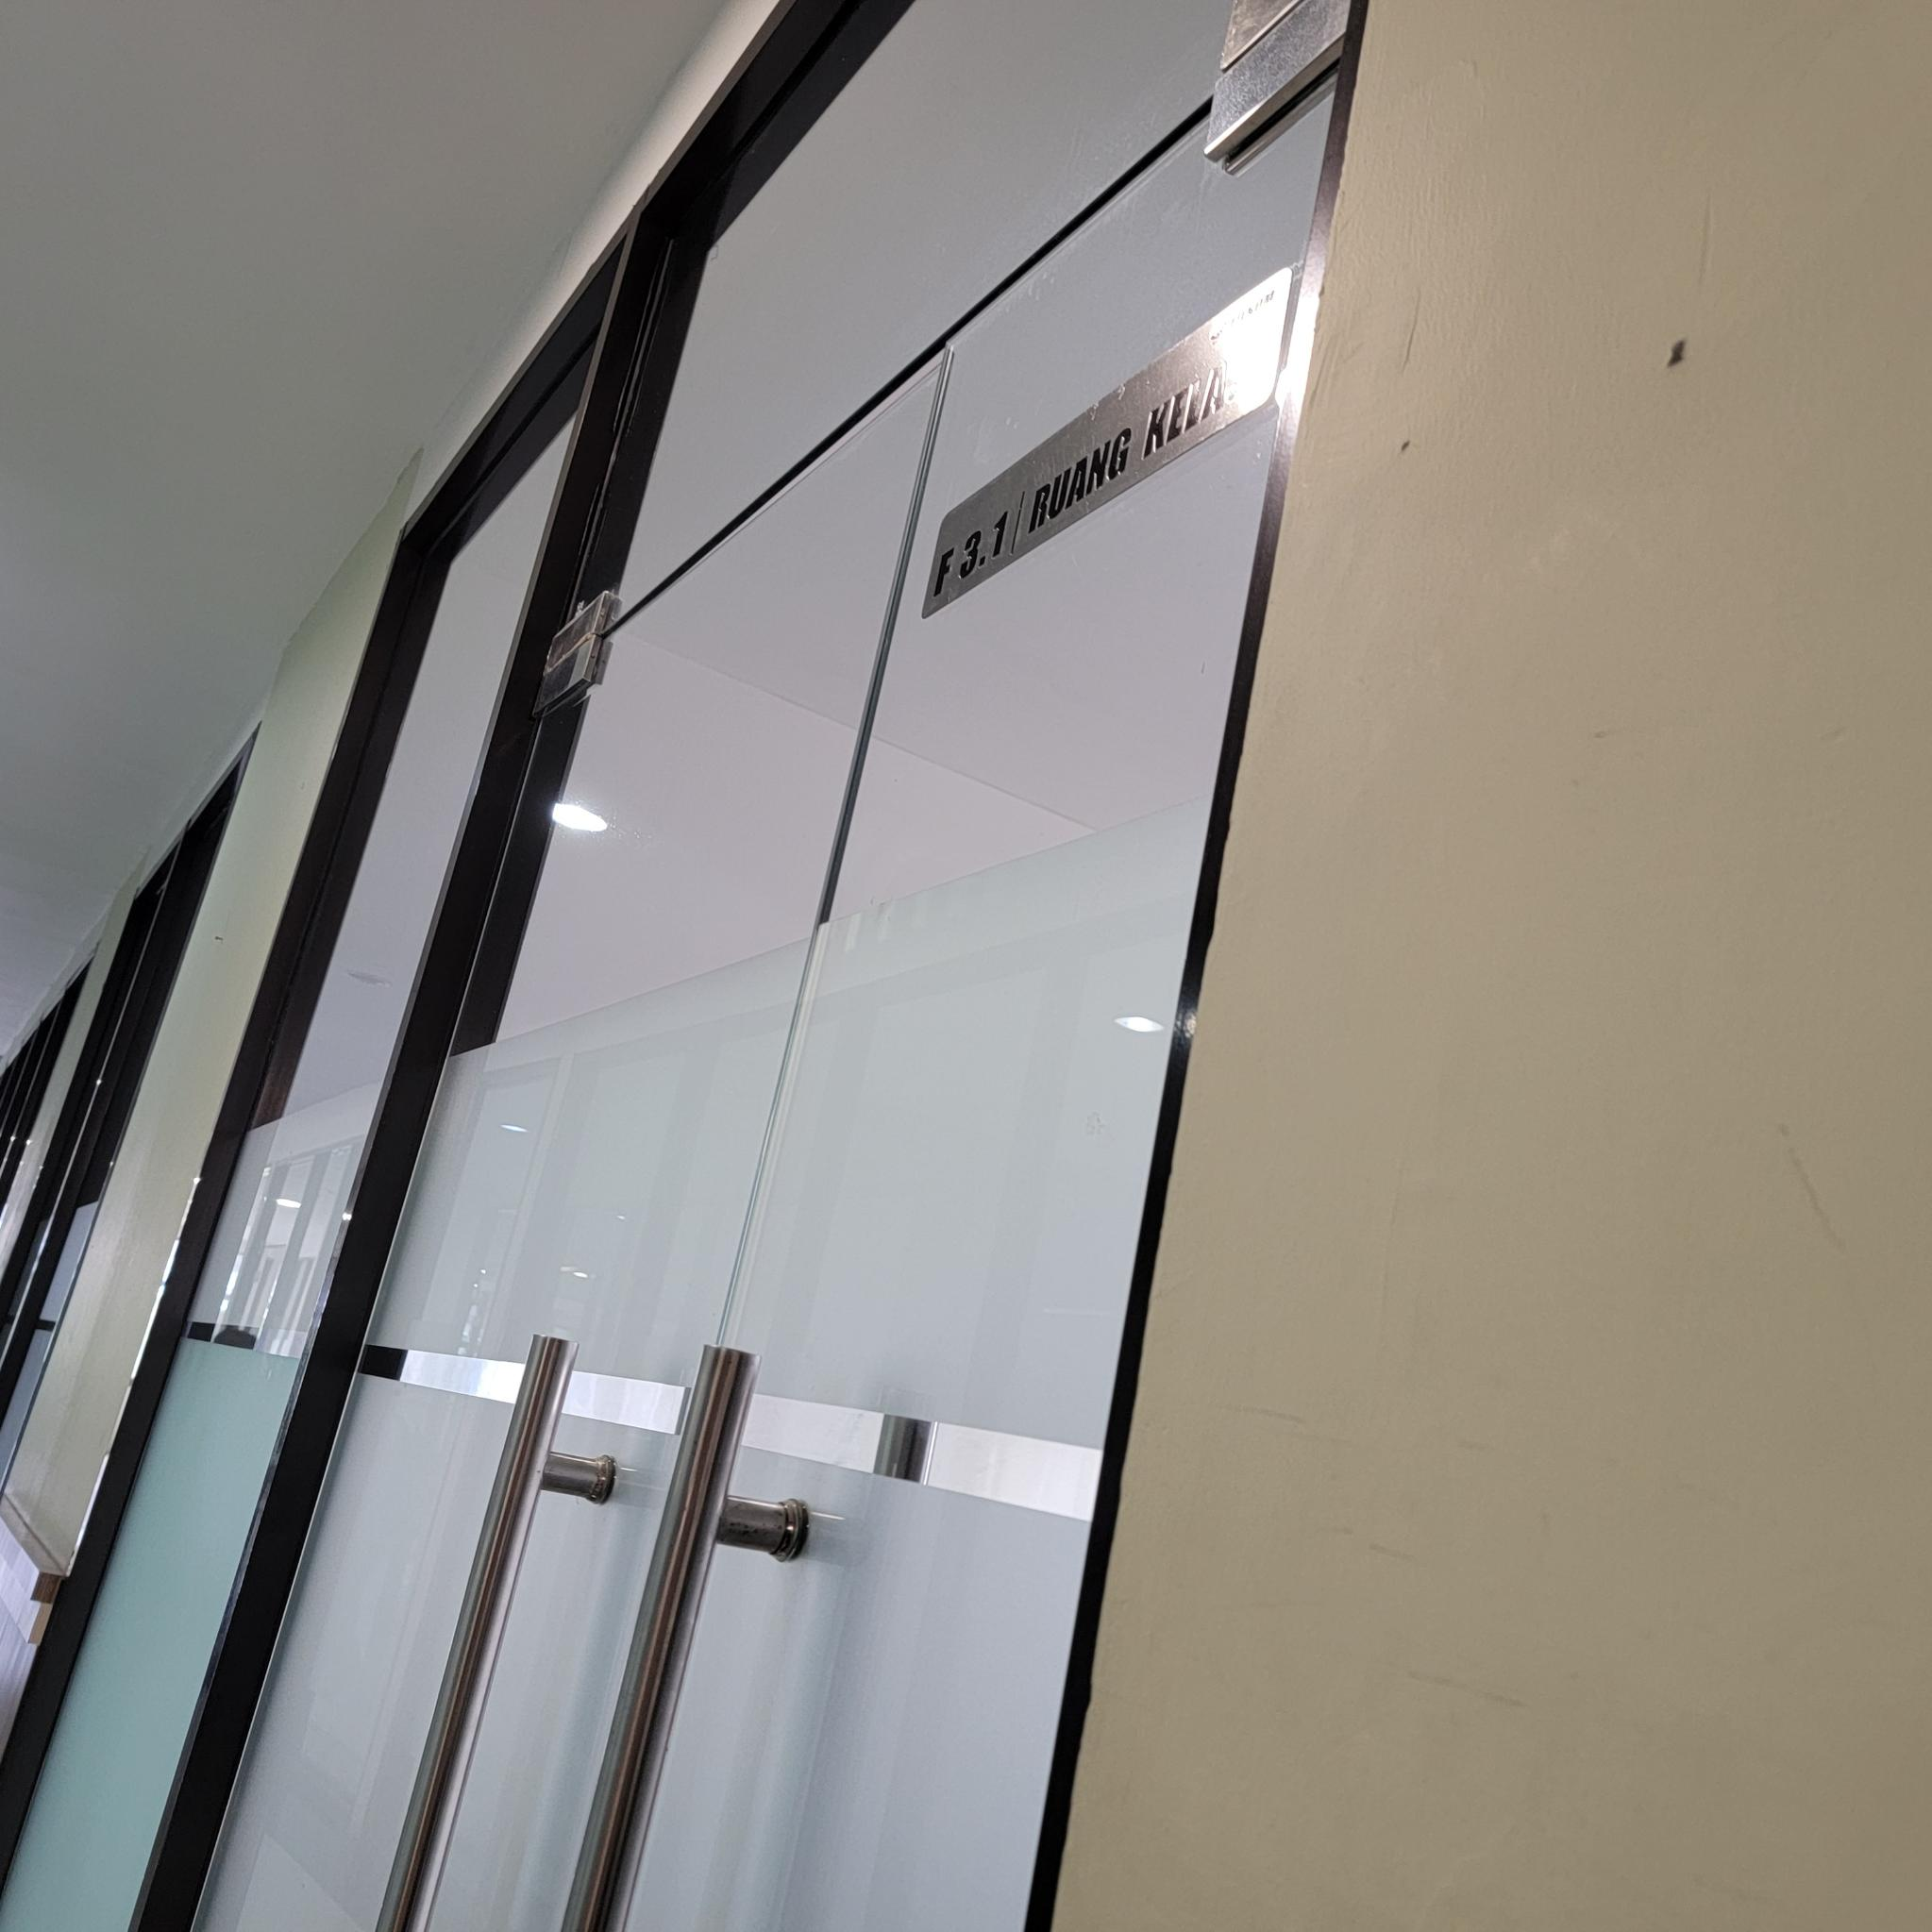plate: (920, 267, 1295, 621)
